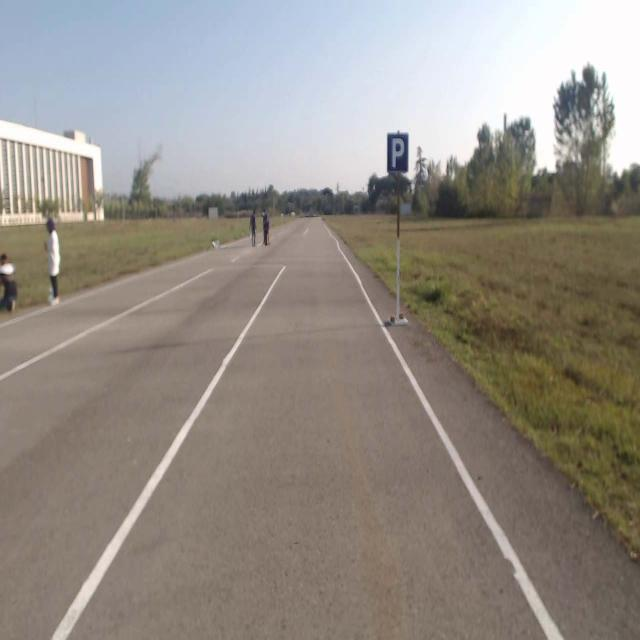park: (387, 134, 408, 172)
